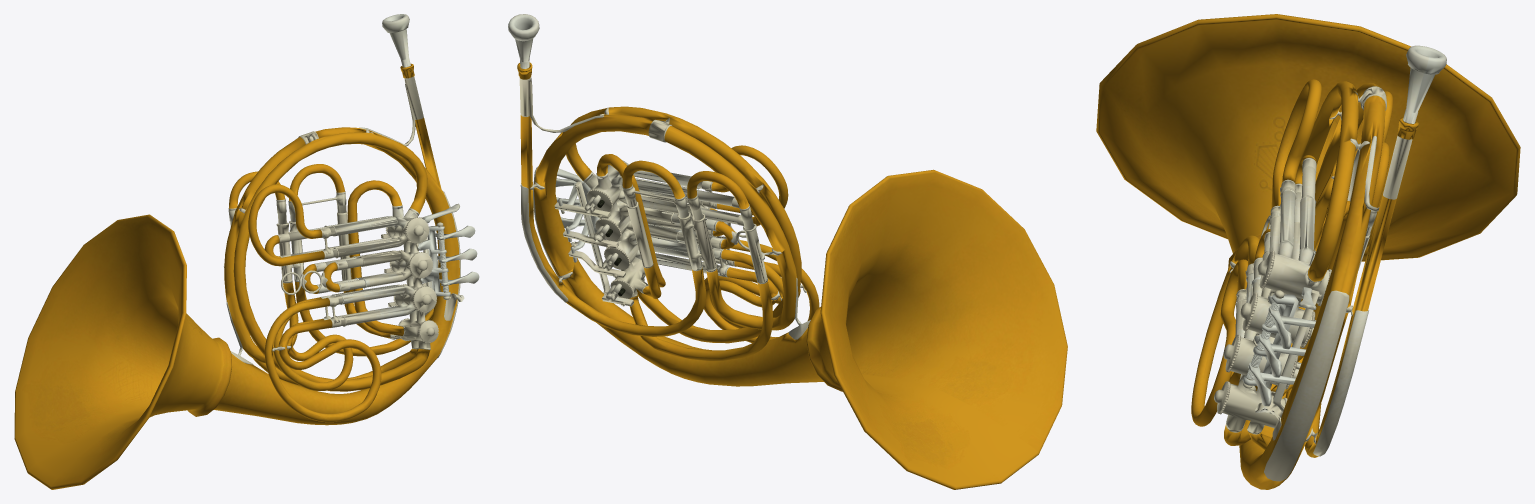
The model's file is french_horn.o.glb.
3 views of the same model, side by side, from view 1: azimuth 30°, elevation 25°; view 2: azimuth 150°, elevation 25°; view 3: azimuth 270°, elevation 25° (orthographic). The views are drawn at different scales.
Visible parts, largest first — view 1: Object_20, Object_19, Object_18, Object_17, Object_21; view 2: Object_20, Object_18, Object_19, Object_17, Object_21, Object_3; view 3: Object_20, Object_18, Object_19, Object_21, Object_17.
Part boxes in pixels (box(x1,y1,x2,y2)): Object_20: box(14, 63, 464, 489); Object_19: box(264, 222, 449, 422); Object_18: box(228, 171, 384, 294); Object_17: box(288, 14, 459, 243); Object_21: box(391, 217, 479, 339); Object_20: box(517, 62, 1067, 489); Object_18: box(657, 145, 788, 250); Object_19: box(589, 168, 819, 342); Object_17: box(508, 14, 688, 217); Object_21: box(555, 178, 633, 306); Object_3: box(554, 200, 625, 296); Object_20: box(1096, 14, 1520, 489); Object_18: box(1253, 79, 1392, 286); Object_19: box(1191, 235, 1284, 426); Object_21: box(1248, 290, 1321, 412); Object_17: box(1260, 45, 1446, 309).
Bounding box in the file's own units: 16.55 × 12.37 × 9.56.
Materials: 1 (1 with a texture image).
